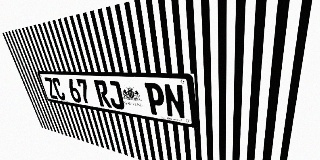6: (66, 78, 82, 103)
7: (75, 79, 93, 105)
C: (51, 78, 67, 101)
J: (106, 80, 125, 110)
N: (163, 83, 186, 120)
P: (144, 82, 166, 116)
R: (93, 80, 112, 108)
Z: (44, 77, 59, 99)
